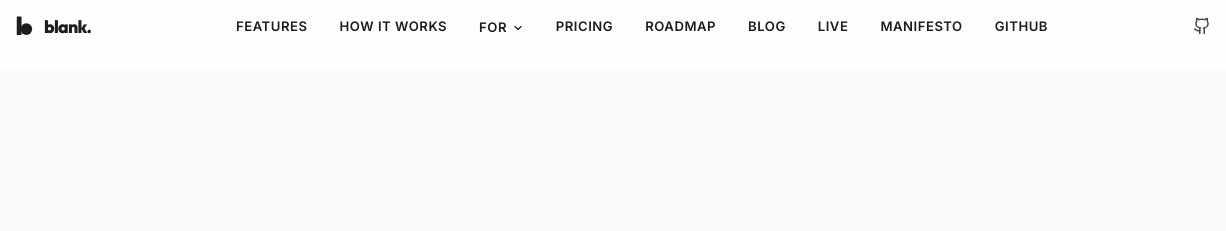
it: LandingNav — 'For' dropdown (§15.x) › Escape key -> dropdown closes
Click the button "For" at (501,28), box [479,18,524,38]
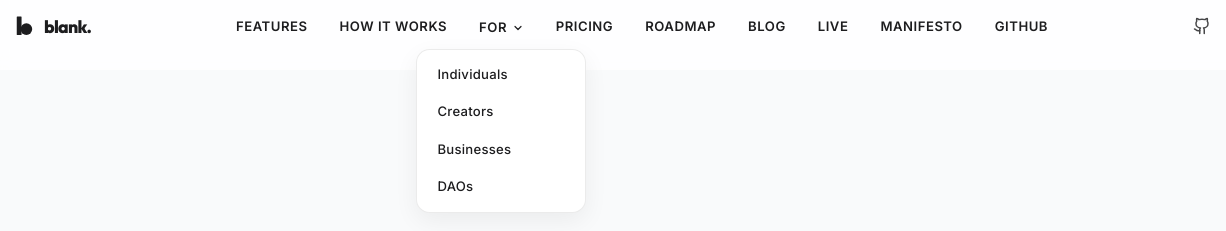
Now the menu is shown, box [416,49,586,213]
Press Escape
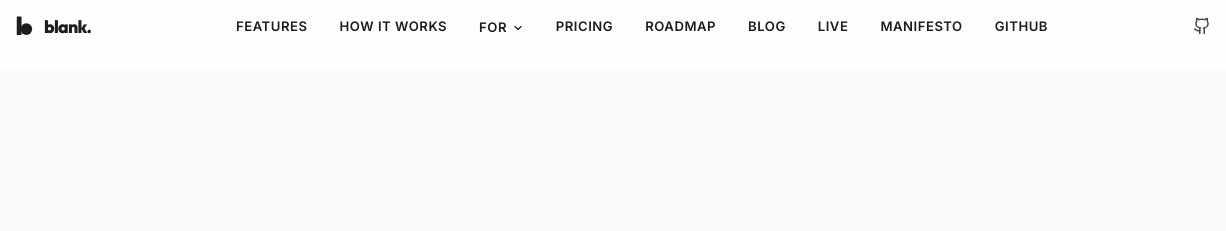
Now the menu is gone
